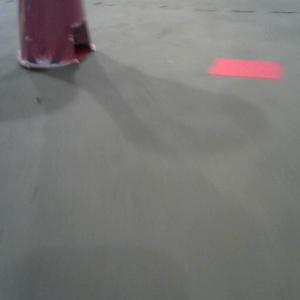middle: (14, 1, 96, 70)
